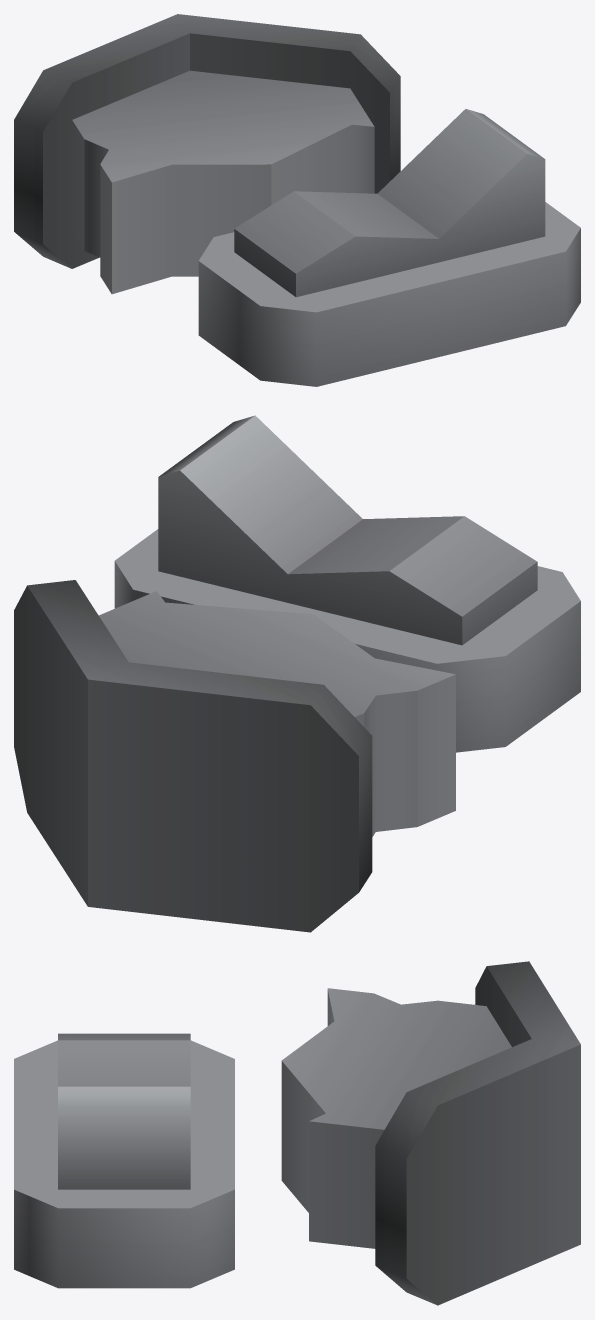
File: gravestone-debris.glb
The picture shows the model from 3 angles, top to bottom: view 1: azimuth 30°, elevation 25°; view 2: azimuth 150°, elevation 25°; view 3: azimuth 270°, elevation 25°; orthographic projection. The views are drawn at different scales.
Visible parts, largest first — view 1: gravestone-debris; view 2: gravestone-debris; view 3: gravestone-debris.
Boxes of the visible parts, <box> form: gravestone-debris: <box>14,14,580,386</box>; gravestone-debris: <box>14,415,580,932</box>; gravestone-debris: <box>14,961,580,1305</box>.
Size of the model in its own units: 0.7428 by 0.4001 by 0.9629.
Materials: 1 (1 with a texture image).
